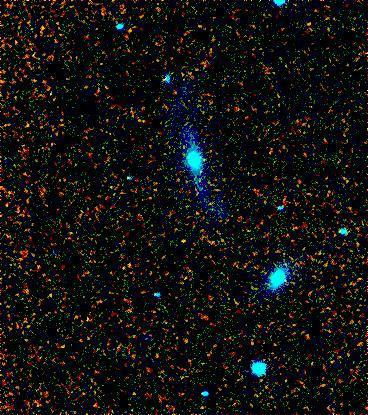star: (168, 227, 198, 257)
